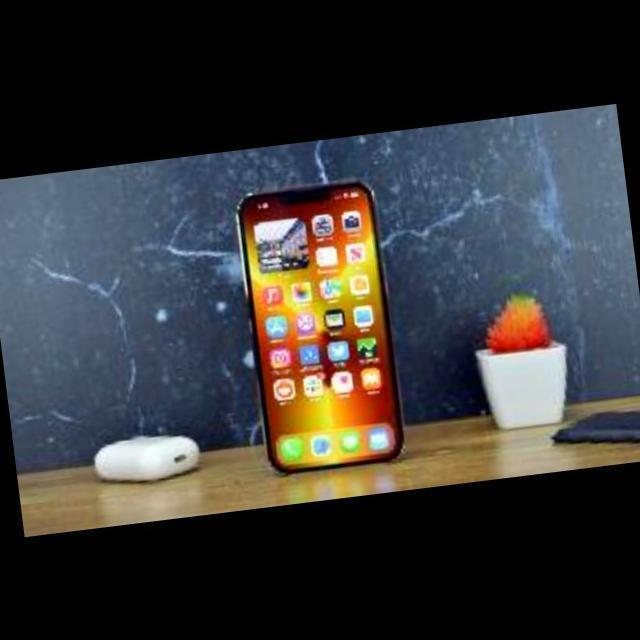Smartphone: (236, 173, 412, 490)
